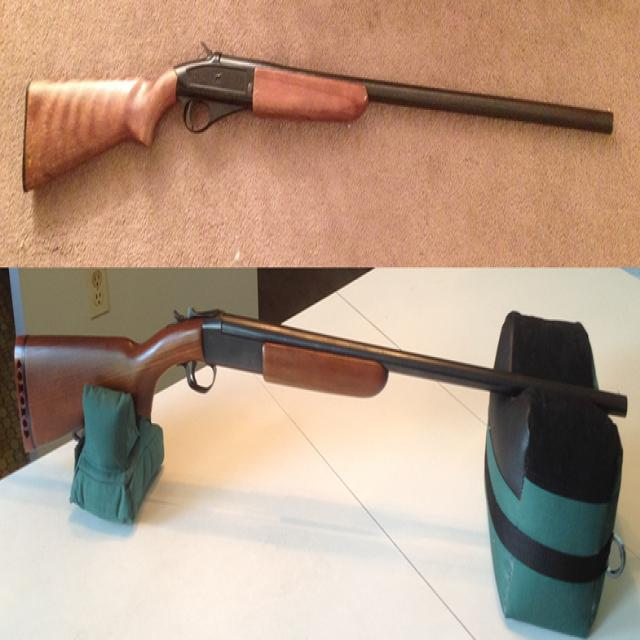ShotGun: (0, 270, 629, 465), (22, 55, 615, 192)
